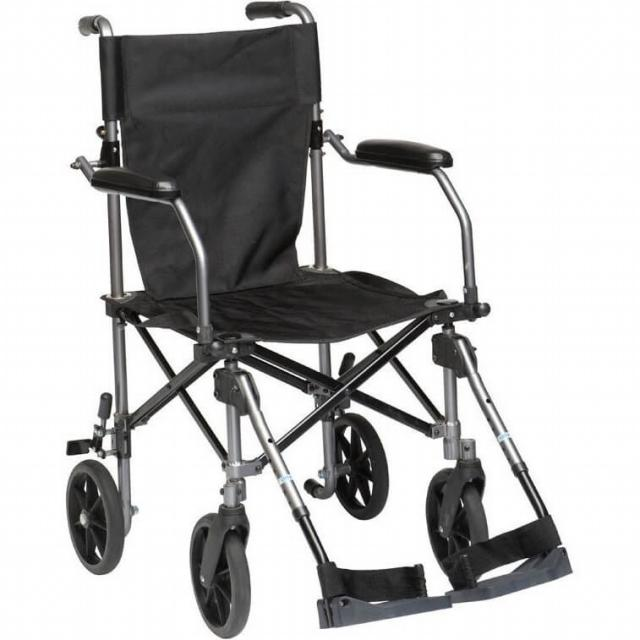wheelchair: (56, 0, 588, 640)
